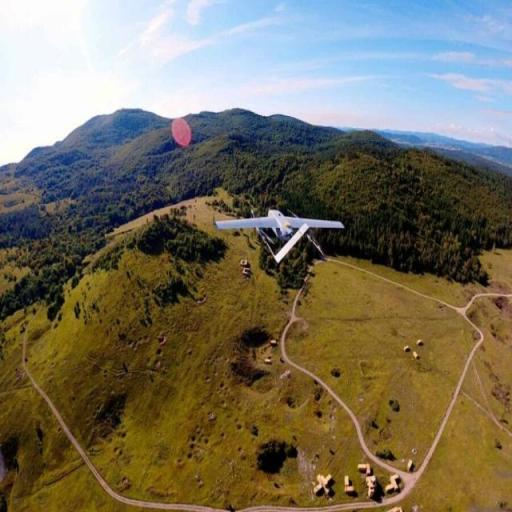uav: (208, 197, 354, 272)
